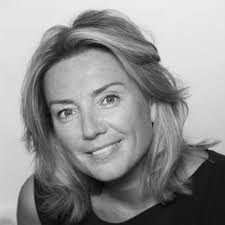white_female: (40, 57, 160, 183)
